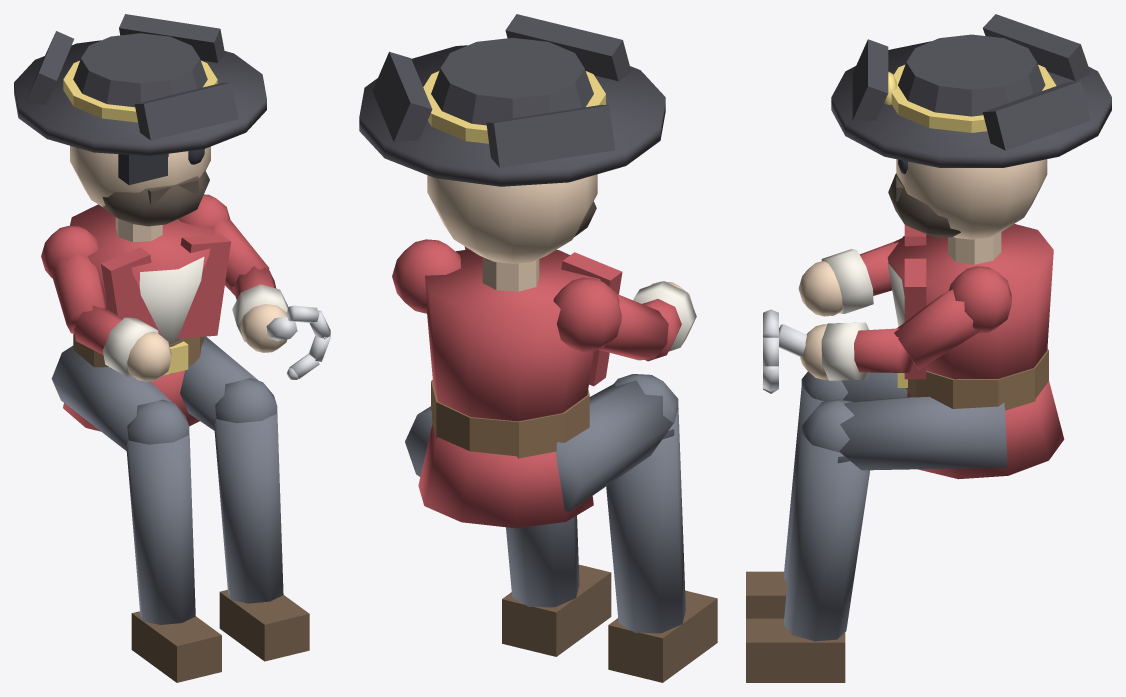
The model's file is meeple_03_pirat.glb.
The picture shows the model from 3 angles, left to right: view 1: azimuth 30°, elevation 25°; view 2: azimuth 150°, elevation 25°; view 3: azimuth 270°, elevation 25°; orthographic projection. The views are drawn at different scales.
Parts seen in each view (by area): view 1: meeple_03_pirat; view 2: meeple_03_pirat; view 3: meeple_03_pirat.
Boxes of the visible parts, left/top/right/bottom form: meeple_03_pirat: left=14, top=14, right=330, bottom=682; meeple_03_pirat: left=359, top=14, right=717, bottom=682; meeple_03_pirat: left=746, top=14, right=1111, bottom=682.
Size of the model in its own units: 0.5655 by 1.33 by 0.7565.
